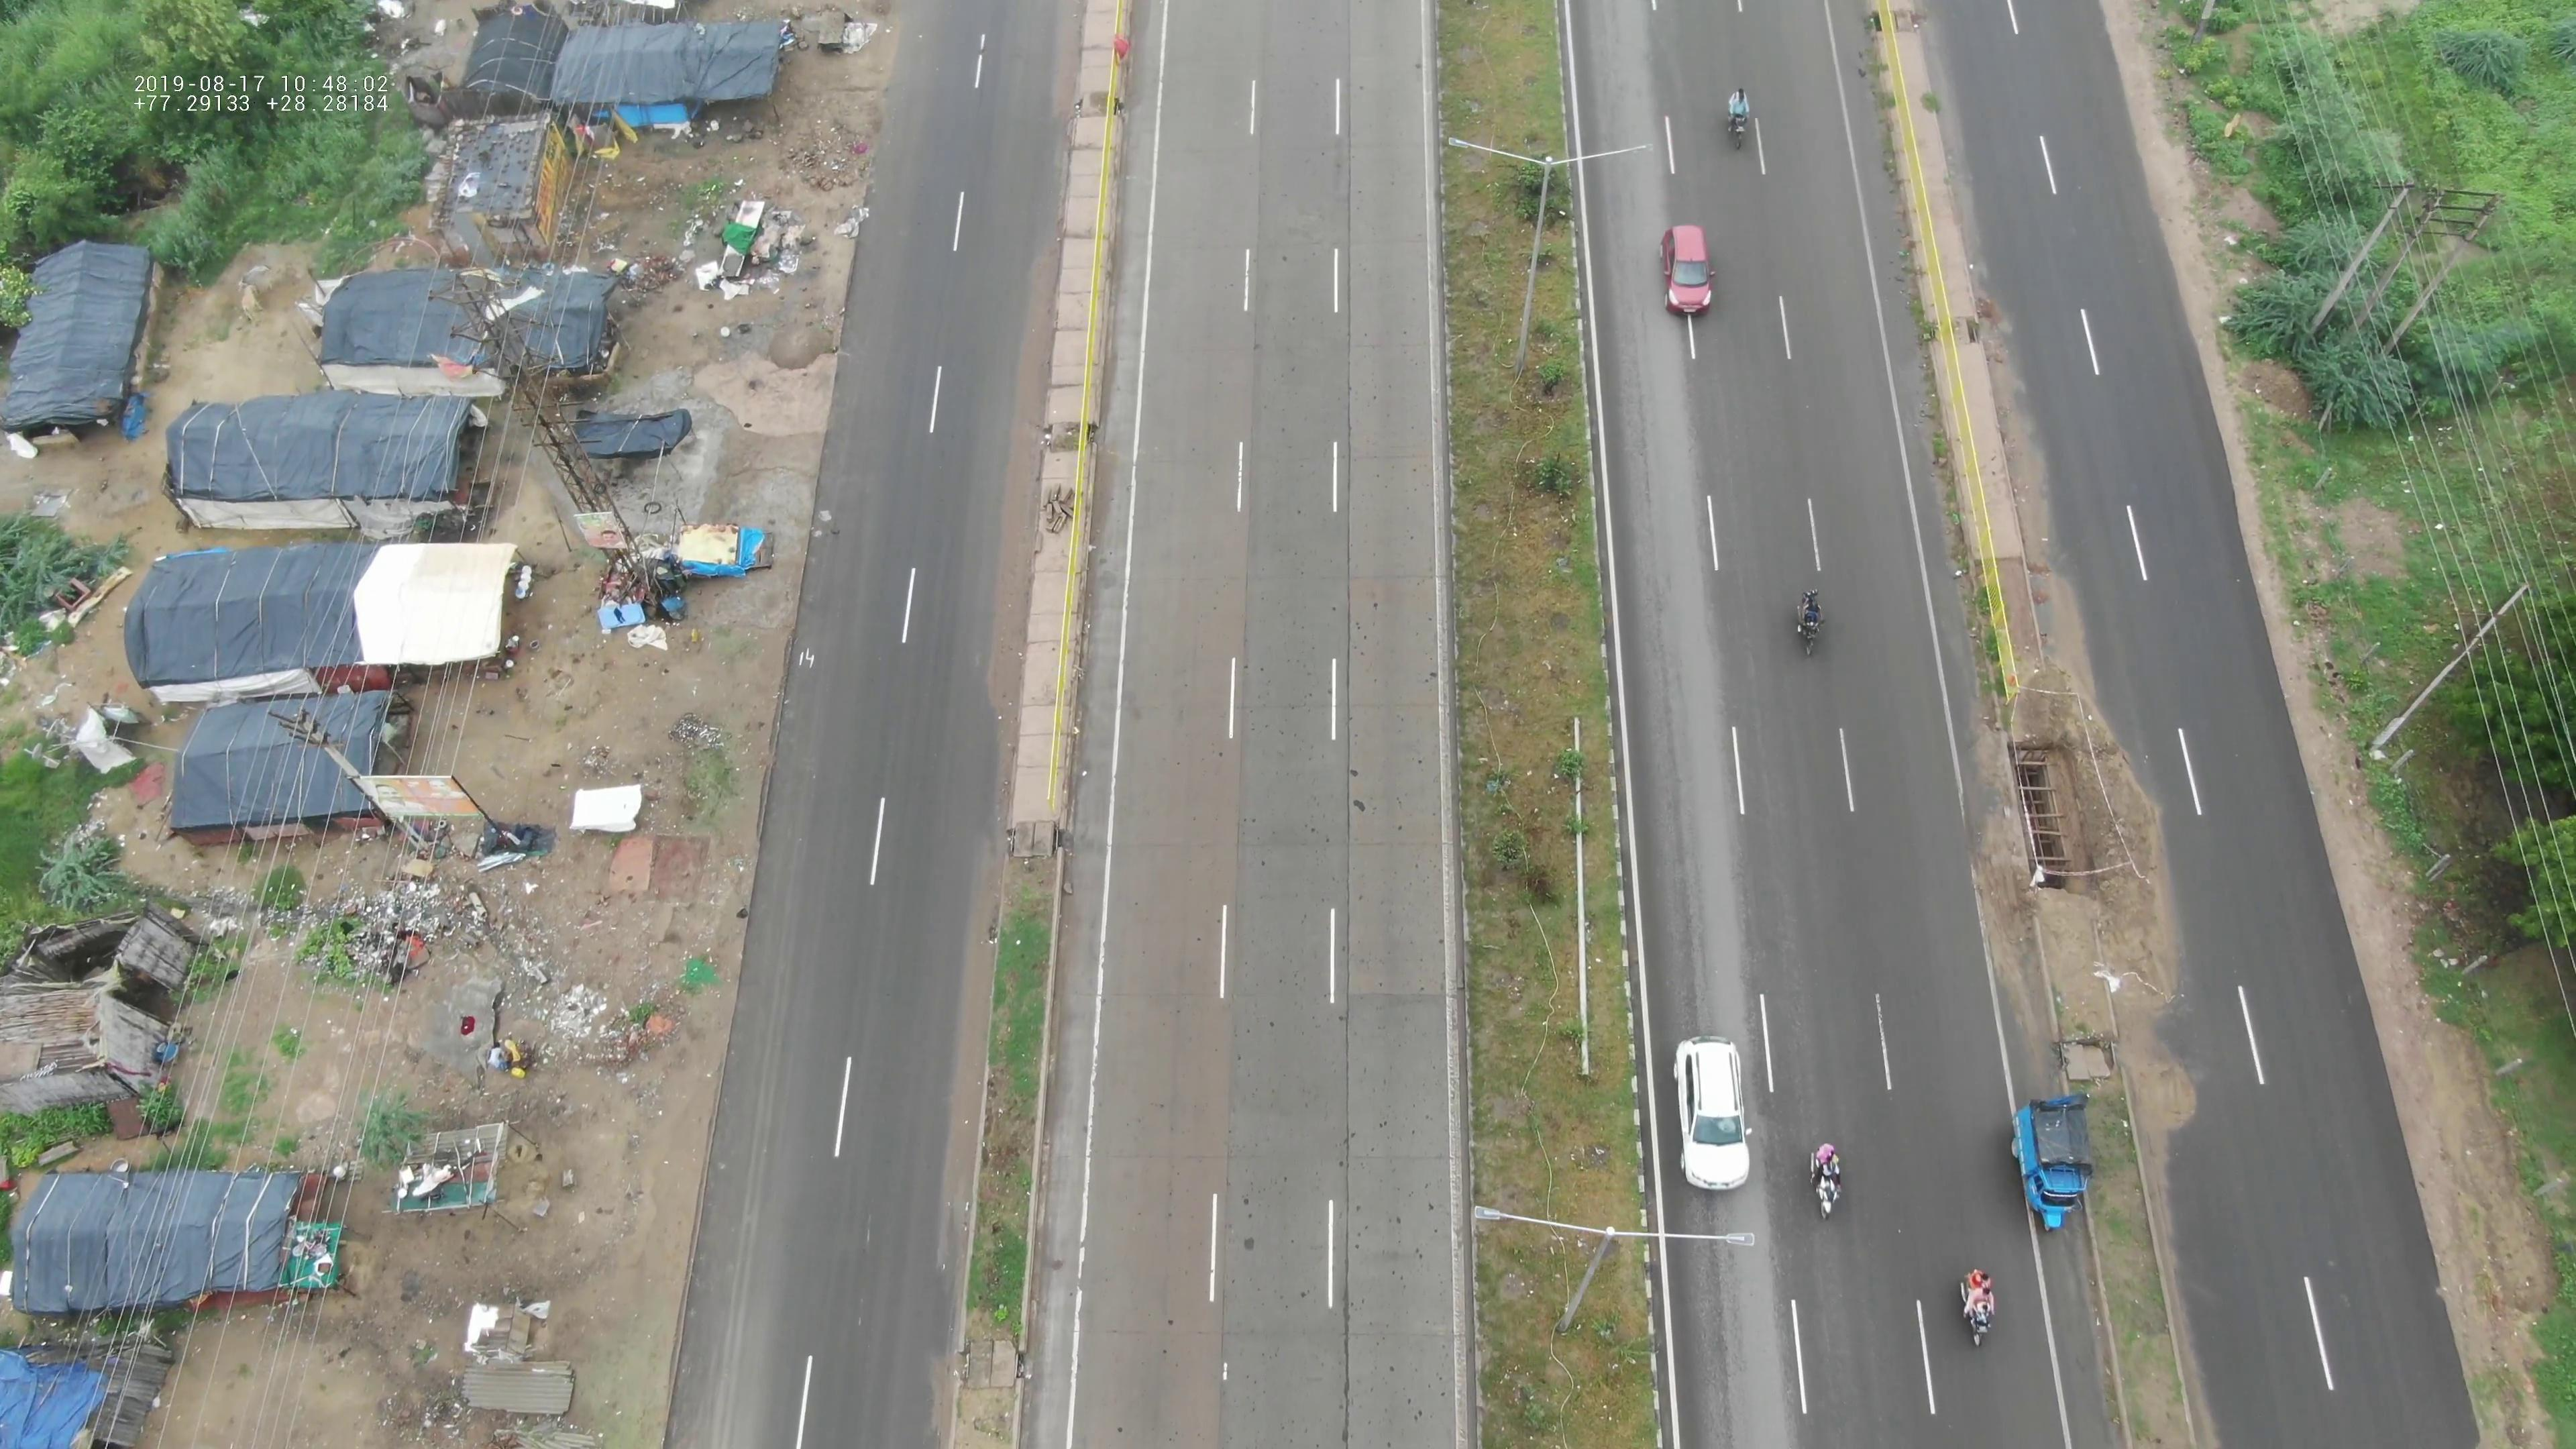Mud_Heaps: (697, 343, 846, 435)
Muddy_road: (2079, 722, 2166, 908)
Road_side_garbage: (326, 847, 495, 980)
